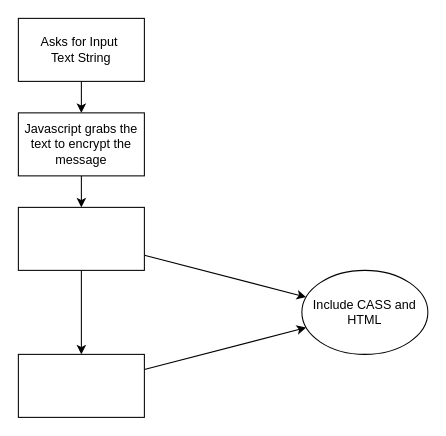
This 446x436 diagram has some shape labels left out. The centre of each missing label's shape, as x and y in pixels:
Javascript encrypts the text: (80,238)
Javascript sends back the encrypted binary code: (80,385)
